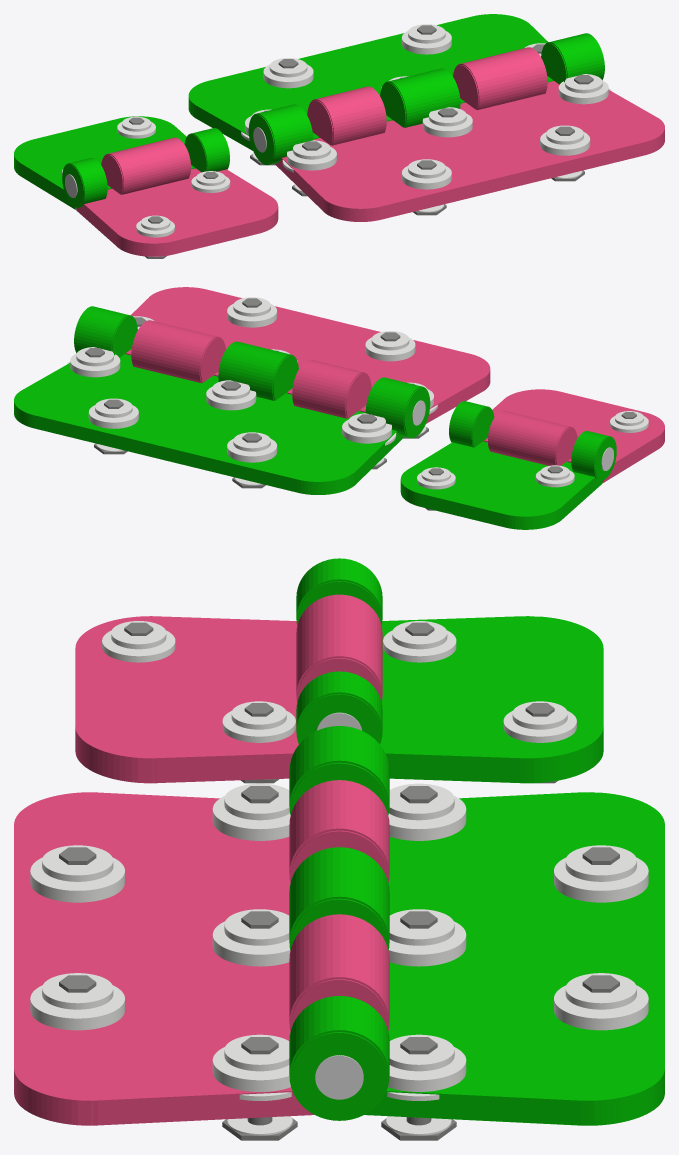
The model's file is job_0001_flat-hinge.glb.
The picture shows the model from 3 angles, top to bottom: view 1: azimuth 30°, elevation 25°; view 2: azimuth 150°, elevation 25°; view 3: azimuth 270°, elevation 25°; orthographic projection. The views are drawn at different scales.
Parts seen in each view (by area): view 1: large_lower_red_notched_leaf, large_upper_green_notched_leaf, small_lower_red_rect_notched_leaf, small_upper_green_rect_notched_leaf, large_red_rolled_knuckle_2, small_red_rolled_knuckle_1, large_red_rolled_knuckle_1, large_green_rolled_knuckle_2, large_green_rolled_knuckle_1, large_green_rolled_knuckle_3, small_green_rolled_knuckle_2, small_green_rolled_knuckle_1 (+14 smaller); view 2: large_upper_green_notched_leaf, large_lower_red_notched_leaf, small_upper_green_rect_notched_leaf, small_lower_red_rect_notched_leaf, large_red_rolled_knuckle_2, small_red_rolled_knuckle_1, large_red_rolled_knuckle_1, large_green_rolled_knuckle_2, large_green_rolled_knuckle_1, large_green_rolled_knuckle_3, small_green_rolled_knuckle_2, small_green_rolled_knuckle_1 (+14 smaller); view 3: large_upper_green_notched_leaf, large_lower_red_notched_leaf, small_upper_green_rect_notched_leaf, small_lower_red_rect_notched_leaf, large_green_rolled_knuckle_3, large_red_rolled_knuckle_2, large_green_rolled_knuckle_2, large_red_rolled_knuckle_1, small_red_rolled_knuckle_1, large_green_rolled_knuckle_1, small_green_rolled_knuckle_2, small_green_rolled_knuckle_1 (+31 smaller).
Part boxes in pixels (x1,y1,x2,y2): large_lower_red_notched_leaf: [274, 81, 664, 221]; large_upper_green_notched_leaf: [188, 14, 553, 150]; small_lower_red_rect_notched_leaf: [76, 168, 278, 256]; small_upper_green_rect_notched_leaf: [14, 116, 194, 209]; large_red_rolled_knuckle_2: [453, 47, 547, 109]; small_red_rolled_knuckle_1: [101, 137, 190, 194]; large_red_rolled_knuckle_1: [307, 86, 386, 145]; large_green_rolled_knuckle_2: [380, 68, 460, 127]; large_green_rolled_knuckle_1: [248, 104, 313, 165]; large_green_rolled_knuckle_3: [541, 33, 604, 84]; small_green_rolled_knuckle_2: [184, 128, 229, 172]; small_green_rolled_knuckle_1: [62, 158, 107, 207]; large_upper_green_notched_leaf: [14, 354, 404, 494]; large_lower_red_notched_leaf: [125, 287, 490, 423]; small_upper_green_rect_notched_leaf: [400, 441, 602, 529]; small_lower_red_rect_notched_leaf: [484, 389, 664, 482]; large_red_rolled_knuckle_2: [131, 320, 225, 383]; small_red_rolled_knuckle_1: [488, 410, 577, 465]; large_red_rolled_knuckle_1: [292, 359, 371, 418]; large_green_rolled_knuckle_2: [218, 341, 298, 400]; large_green_rolled_knuckle_1: [365, 377, 430, 438]; large_green_rolled_knuckle_3: [74, 306, 137, 357]; small_green_rolled_knuckle_2: [449, 401, 494, 447]; small_green_rolled_knuckle_1: [571, 431, 616, 480]; large_upper_green_notched_leaf: [365, 792, 664, 1125]; large_lower_red_notched_leaf: [14, 792, 313, 1125]; small_upper_green_rect_notched_leaf: [380, 616, 603, 783]; small_lower_red_rect_notched_leaf: [75, 616, 298, 783]; large_green_rolled_knuckle_3: [289, 996, 389, 1120]; large_red_rolled_knuckle_2: [289, 914, 389, 1030]; large_green_rolled_knuckle_2: [289, 847, 389, 950]; large_red_rolled_knuckle_1: [289, 780, 389, 882]; small_red_rolled_knuckle_1: [296, 594, 382, 701]; large_green_rolled_knuckle_1: [289, 726, 389, 814]; small_green_rolled_knuckle_2: [296, 671, 382, 743]; small_green_rolled_knuckle_1: [296, 558, 382, 624].
Bounding box in the file's own units: 65.71 × 7.86 × 37.3.
